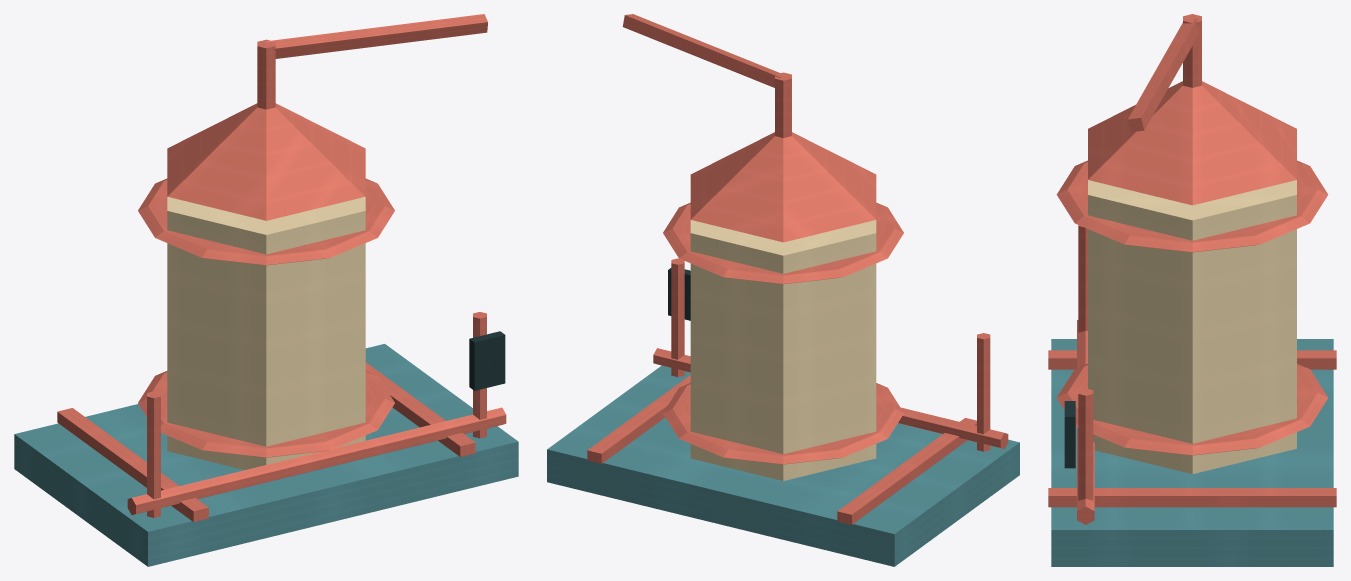
File: atlas100-s076-a02.lod2.glb
3 renders of one model, left to right at view 1: azimuth 30°, elevation 25°; view 2: azimuth 150°, elevation 25°; view 3: azimuth 270°, elevation 25°, orthographic. The views are drawn at different scales.
Parts seen in each view (by area): view 1: atlas100-s076-a02:part-003, atlas100-s076-a02:part-000, atlas100-s076-a02:part-007, atlas100-s076-a02:part-014, atlas100-s076-a02:part-005, atlas100-s076-a02:part-004, atlas100-s076-a02:part-009, atlas100-s076-a02:part-001, atlas100-s076-a02:part-013, atlas100-s076-a02:part-002, atlas100-s076-a02:part-010, atlas100-s076-a02:part-008 (+1 smaller); view 2: atlas100-s076-a02:part-003, atlas100-s076-a02:part-000, atlas100-s076-a02:part-007, atlas100-s076-a02:part-004, atlas100-s076-a02:part-005, atlas100-s076-a02:part-001, atlas100-s076-a02:part-009, atlas100-s076-a02:part-014, atlas100-s076-a02:part-002, atlas100-s076-a02:part-012, atlas100-s076-a02:part-010, atlas100-s076-a02:part-008; view 3: atlas100-s076-a02:part-003, atlas100-s076-a02:part-000, atlas100-s076-a02:part-007, atlas100-s076-a02:part-005, atlas100-s076-a02:part-004, atlas100-s076-a02:part-002, atlas100-s076-a02:part-009, atlas100-s076-a02:part-012, atlas100-s076-a02:part-001, atlas100-s076-a02:part-014, atlas100-s076-a02:part-010, atlas100-s076-a02:part-008 (+1 smaller).
Part boxes in pixels (x1,y1,x2,y2): atlas100-s076-a02:part-003: (167,197,365,469); atlas100-s076-a02:part-000: (14,344,518,566); atlas100-s076-a02:part-007: (167,103,365,220); atlas100-s076-a02:part-014: (127,407,506,514); atlas100-s076-a02:part-005: (138,178,394,265); atlas100-s076-a02:part-004: (138,371,394,457); atlas100-s076-a02:part-009: (265,14,487,58); atlas100-s076-a02:part-001: (57,408,208,521); atlas100-s076-a02:part-013: (469,331,505,390); atlas100-s076-a02:part-002: (365,362,475,456); atlas100-s076-a02:part-010: (147,391,160,517); atlas100-s076-a02:part-008: (257,39,275,109); atlas100-s076-a02:part-003: (690,220,876,480); atlas100-s076-a02:part-000: (547,365,1019,566); atlas100-s076-a02:part-007: (690,132,876,242); atlas100-s076-a02:part-004: (663,383,903,464); atlas100-s076-a02:part-005: (663,202,903,284); atlas100-s076-a02:part-001: (837,418,976,524); atlas100-s076-a02:part-009: (622,14,781,87); atlas100-s076-a02:part-014: (653,348,1008,448); atlas100-s076-a02:part-002: (587,375,690,463); atlas100-s076-a02:part-012: (671,258,684,376); atlas100-s076-a02:part-010: (977,333,990,451); atlas100-s076-a02:part-008: (775,72,791,137); atlas100-s076-a02:part-003: (1088,180,1296,473); atlas100-s076-a02:part-000: (1051,339,1333,566); atlas100-s076-a02:part-007: (1088,81,1296,205); atlas100-s076-a02:part-005: (1056,160,1328,252); atlas100-s076-a02:part-004: (1056,363,1328,455); atlas100-s076-a02:part-002: (1048,488,1336,507); atlas100-s076-a02:part-009: (1128,18,1199,131); atlas100-s076-a02:part-012: (1078,388,1093,500); atlas100-s076-a02:part-001: (1048,350,1336,369); atlas100-s076-a02:part-014: (1077,320,1094,524); atlas100-s076-a02:part-010: (1078,225,1087,332); atlas100-s076-a02:part-008: (1183,14,1201,87).
Size of the model in its own units: 2.95 by 3.19 by 1.84.
5 materials, 5 textured.
